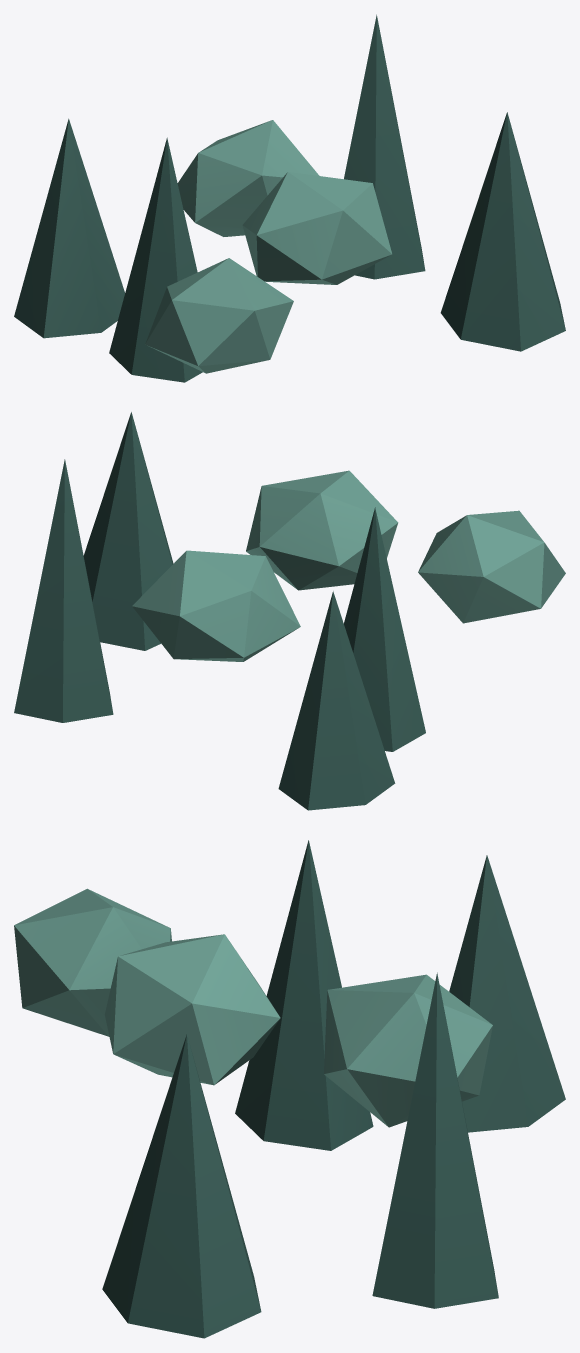
Rendered from forest_clump_mixed.glb.
The picture shows the model from 3 angles, top to bottom: view 1: azimuth 30°, elevation 25°; view 2: azimuth 150°, elevation 25°; view 3: azimuth 270°, elevation 25°; orthographic projection. The views are drawn at different scales.
Bounding box in the file's own units: 23.98 × 12.52 × 20.25.
